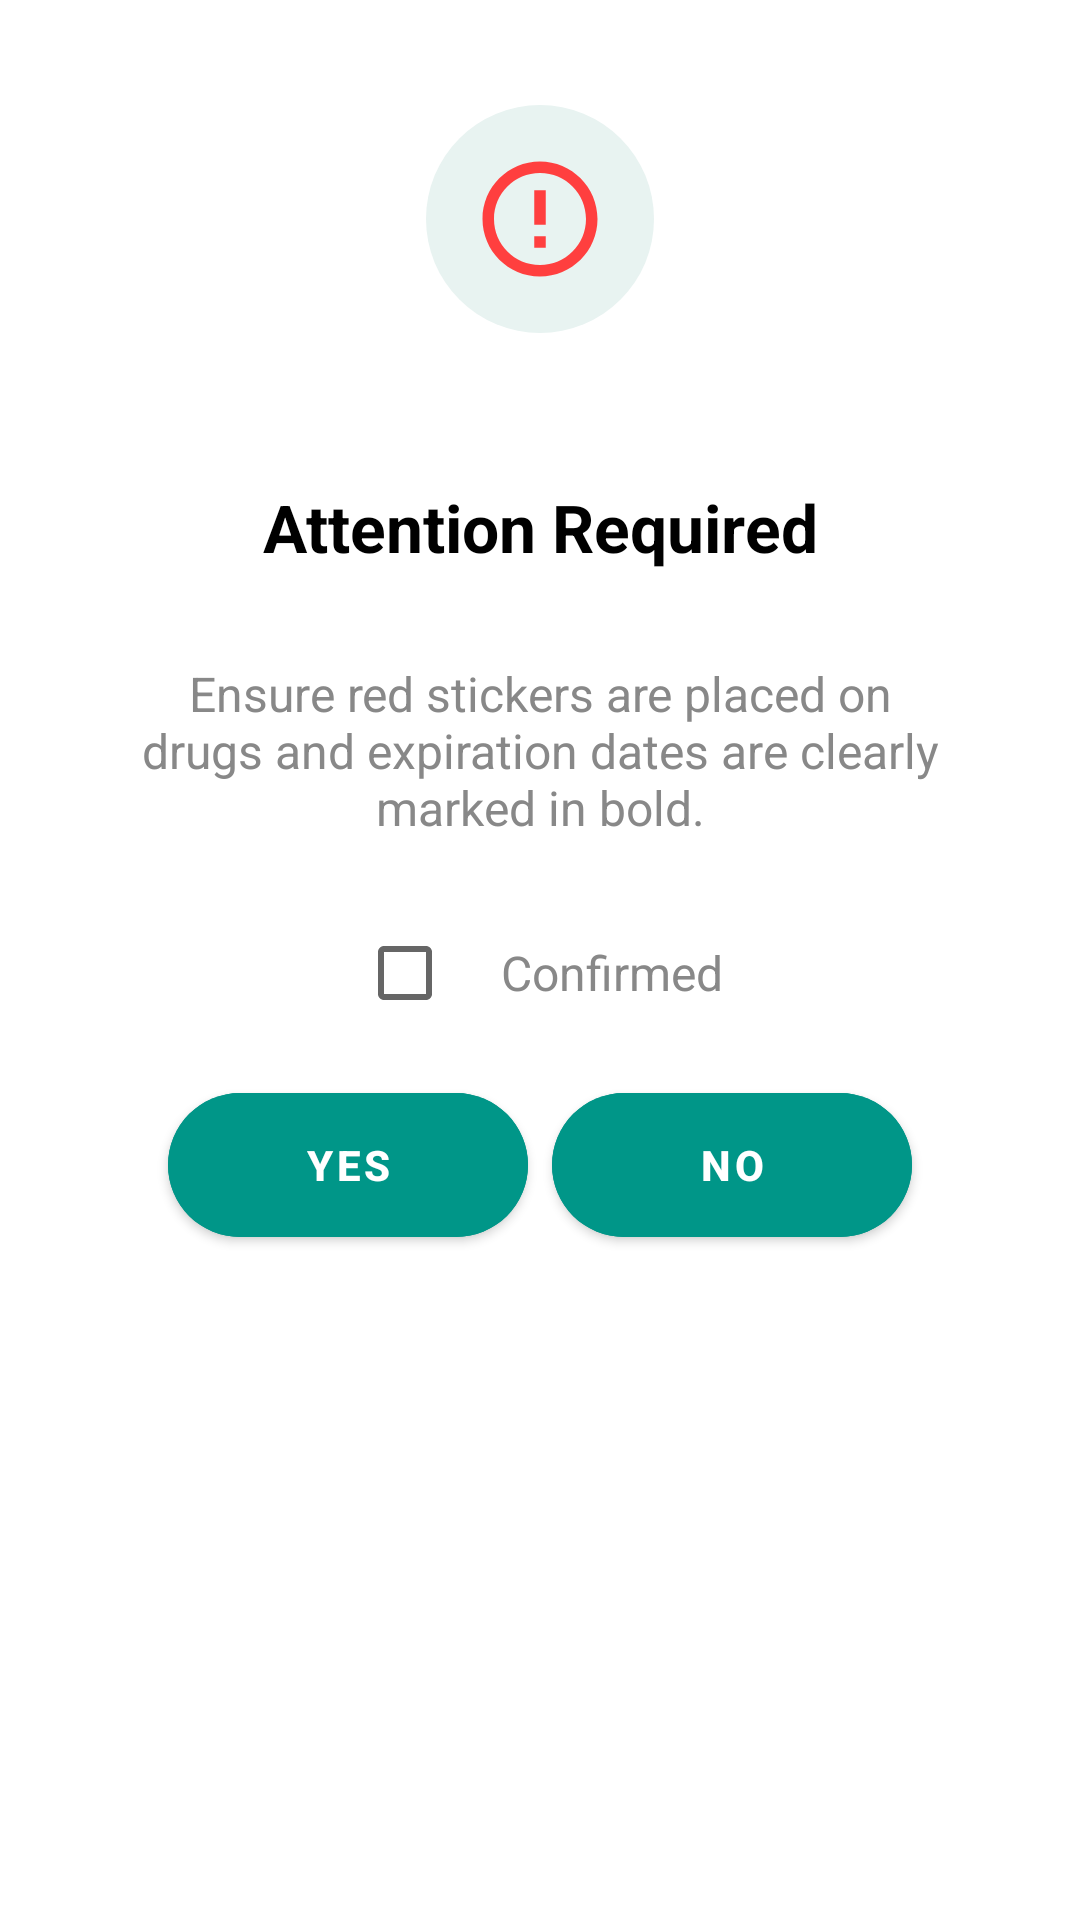

Named icons in this screenshot (1080 x 1920) and their bounding boxes, [x1=x1, y1=y1, x2=x2, y2=y2]:
alert: [x1=426, y1=105, x2=654, y2=333]
